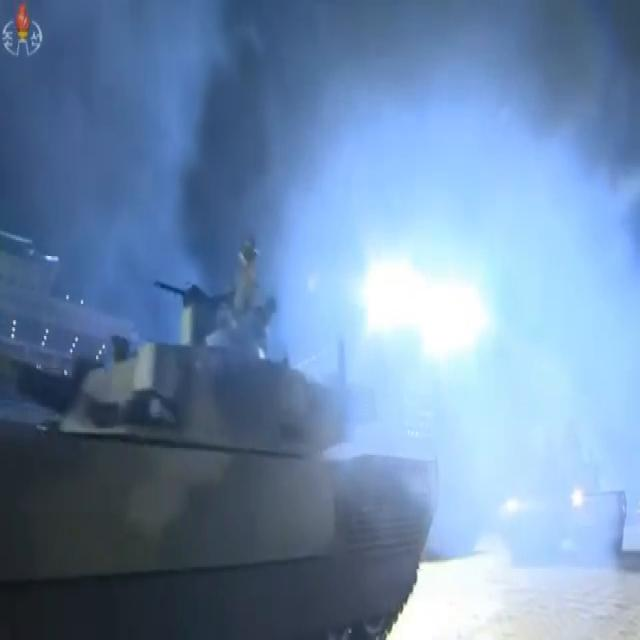north tank: (3, 213, 446, 640)
